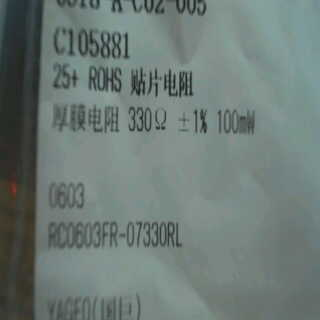330R: (126, 105, 173, 135)
